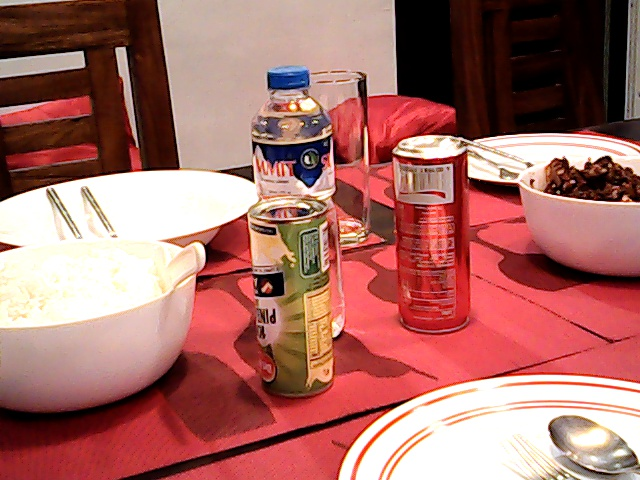Cola: (380, 121, 480, 342)
Pine Juice: (243, 187, 336, 403)
Summit Water: (247, 60, 341, 196)
